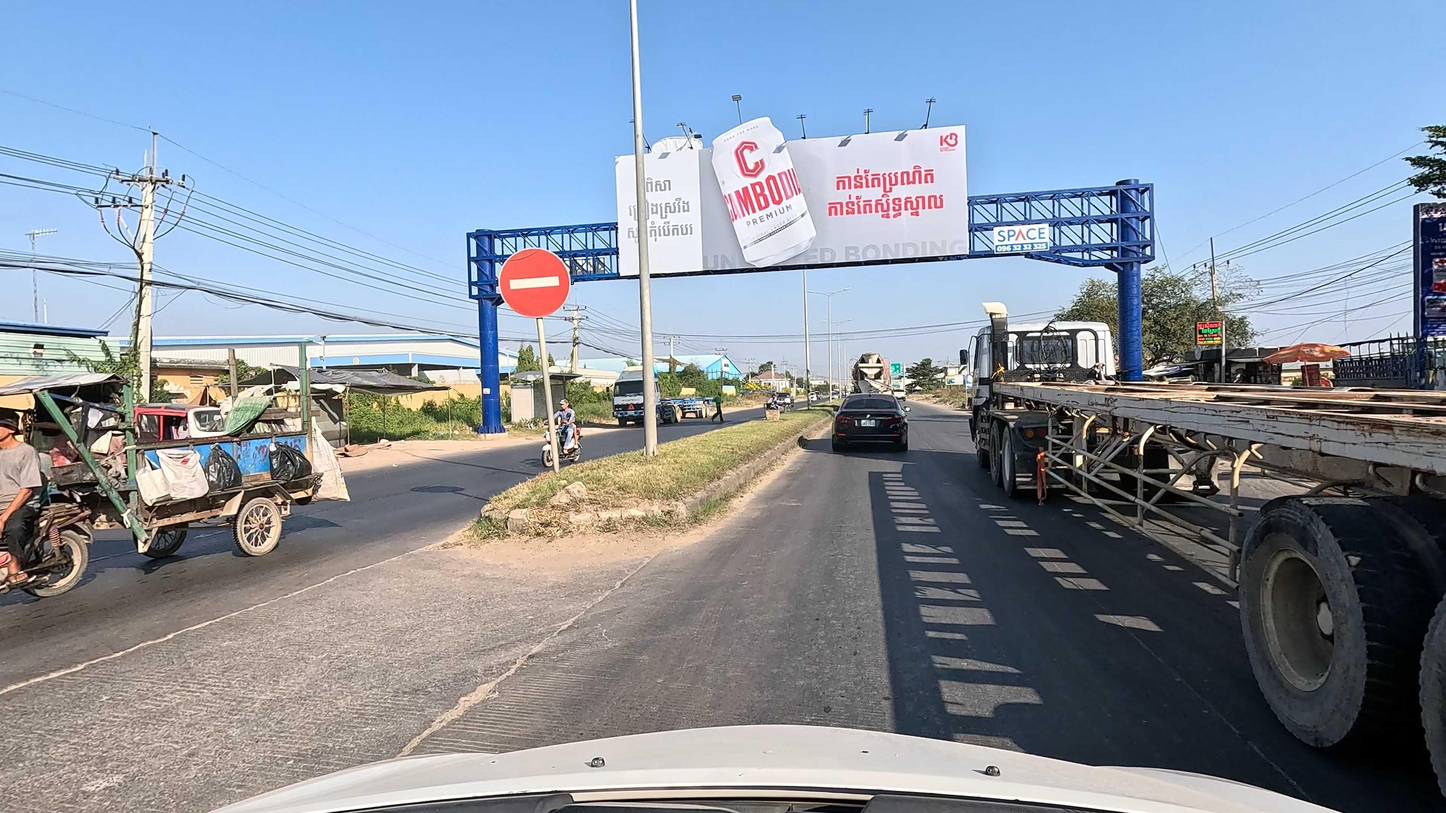no_entry: (499, 247, 571, 319)
